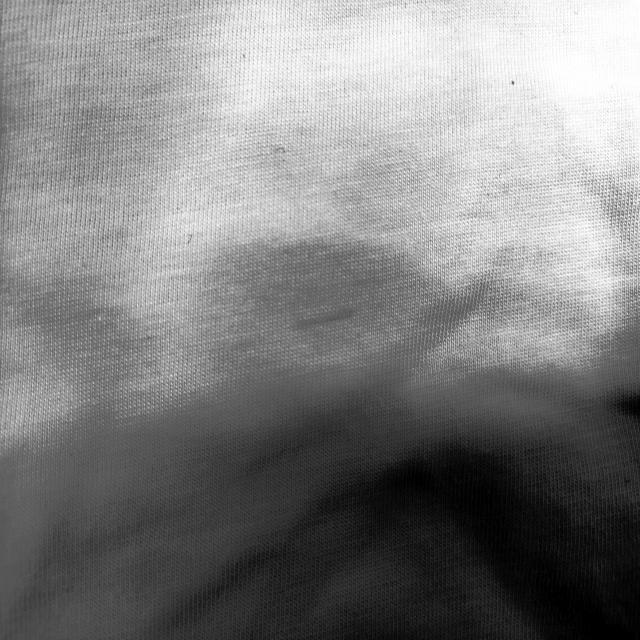Foreign_yarn: (280, 288, 381, 346)
